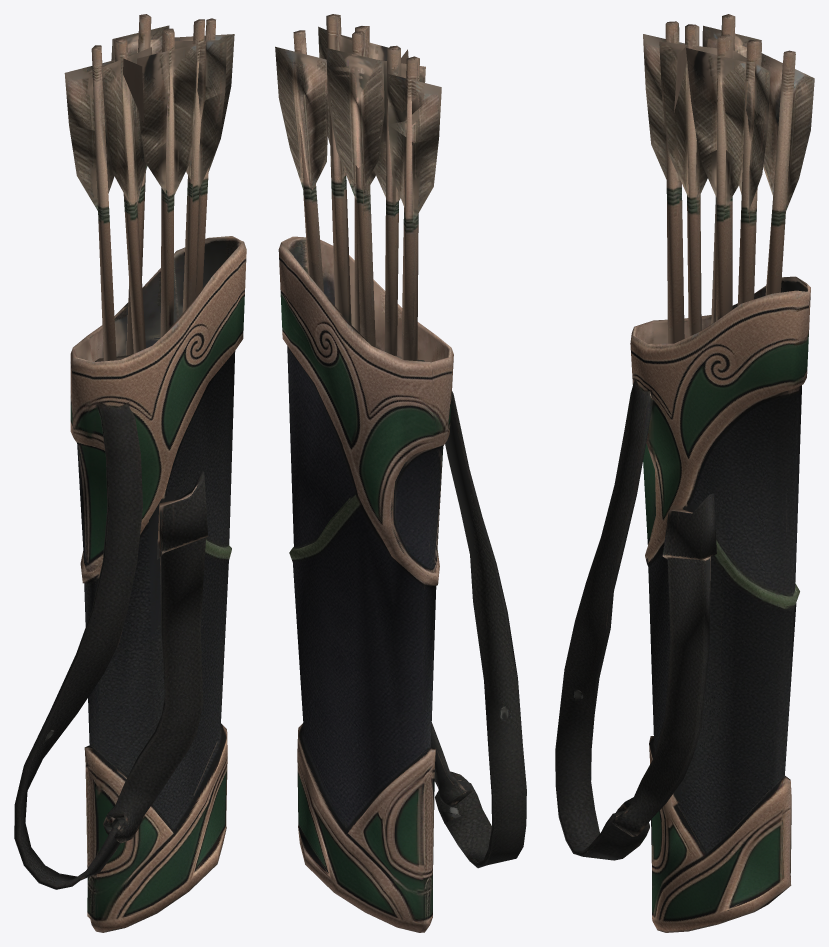
Rendered from archer_quiver.glb.
The picture shows the model from 3 angles, left to right: view 1: azimuth 30°, elevation 25°; view 2: azimuth 150°, elevation 25°; view 3: azimuth 330°, elevation 25°; orthographic projection. The views are drawn at different scales.
Parts seen in each view (by area): view 1: Mesh_0; view 2: Mesh_0; view 3: Mesh_0.
Boxes of the visible parts, x1,y1,x2,y2 form: Mesh_0: (14, 14, 246, 932); Mesh_0: (275, 14, 526, 932); Mesh_0: (555, 14, 814, 932).
Size of the model in its own units: 0.2656 by 0.9507 by 0.1206.
Materials: 1 (1 with a texture image).
